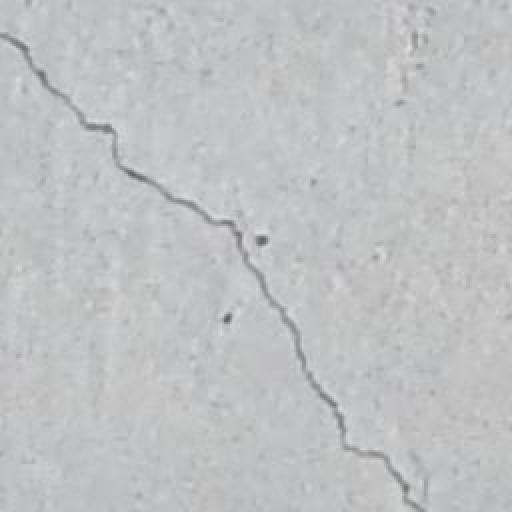spalling: (2, 23, 450, 506)
